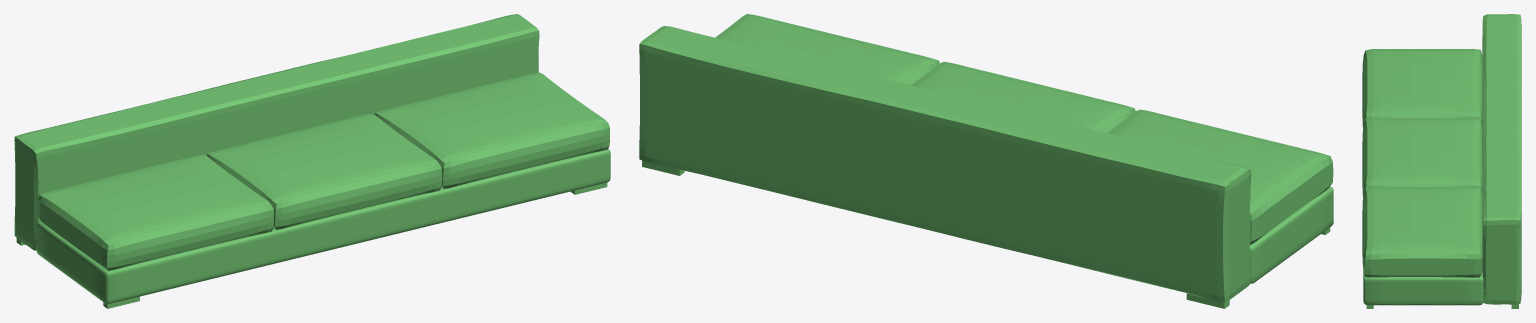
Rendered from Sopa1_low.fbx.
3 renders of one model, left to right at view 1: azimuth 30°, elevation 25°; view 2: azimuth 150°, elevation 25°; view 3: azimuth 270°, elevation 25°, orthographic. The views are drawn at different scales.
Visible parts, largest first — view 1: Object002_low, Object003_low, Object005_low, Object004_low; view 2: Object003_low, Object002_low, Object005_low, Object004_low; view 3: Object002_low, Object003_low, Object005_low.
Part boxes in pixels (left/top/right/bottom): Object002_low: left=38, top=72, right=609, bottom=270; Object003_low: left=14, top=14, right=539, bottom=250; Object005_low: left=36, top=149, right=610, bottom=304; Object004_low: left=16, top=182, right=607, bottom=308; Object003_low: left=639, top=26, right=1251, bottom=302; Object002_low: left=715, top=14, right=1333, bottom=244; Object005_low: left=1250, top=186, right=1333, bottom=283; Object004_low: left=642, top=160, right=1330, bottom=308; Object002_low: left=1362, top=49, right=1482, bottom=277; Object003_low: left=1482, top=14, right=1521, bottom=304; Object005_low: left=1363, top=271, right=1483, bottom=305.
Size of the model in its own units: 118 by 24.02 by 38.39.
